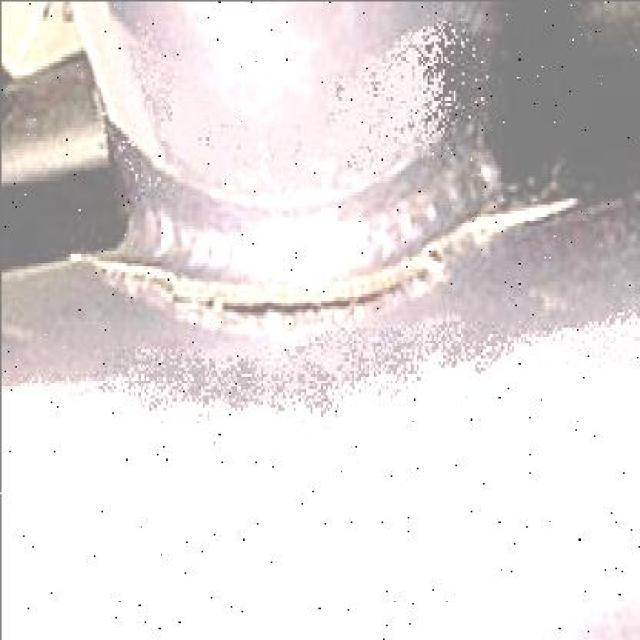Defect: (203, 271, 431, 326)
